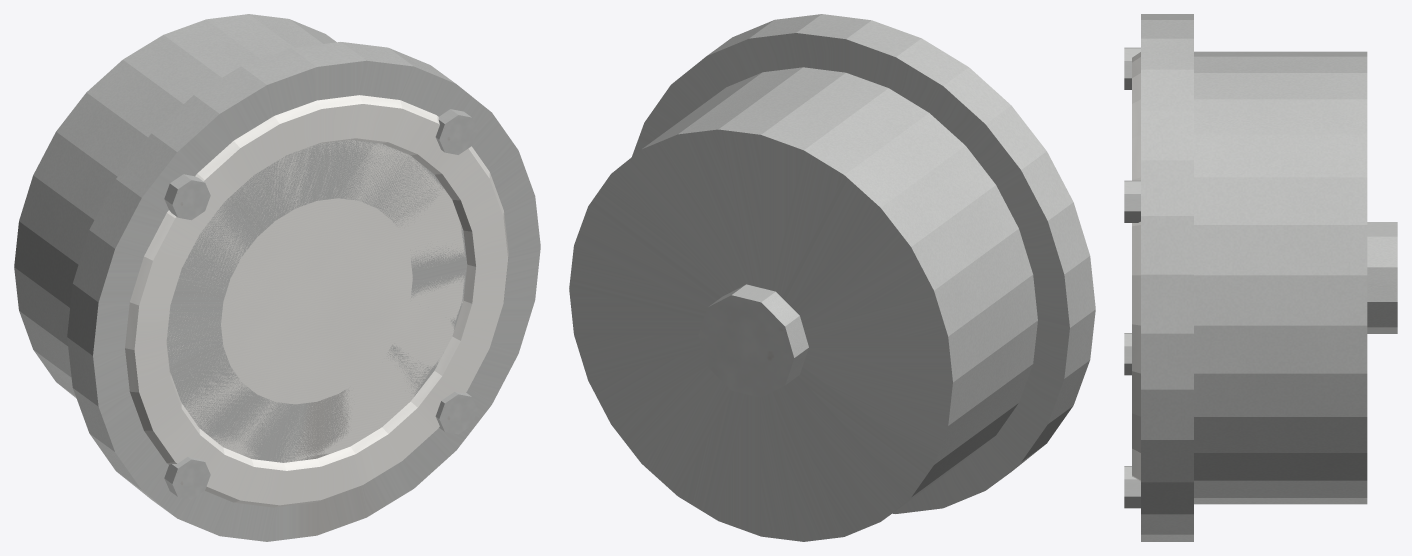
File: bussocket_circle.gltf
3 renders of one model, left to right at view 1: azimuth 30°, elevation 25°; view 2: azimuth 150°, elevation 25°; view 3: azimuth 270°, elevation 25°, orthographic. The views are drawn at different scales.
Parts seen in each view (by area): view 1: jx_bussocket_circle; view 2: jx_bussocket_circle; view 3: jx_bussocket_circle.
Part boxes in pixels (x1,y1,x2,y2): jx_bussocket_circle: [14, 14, 540, 541]; jx_bussocket_circle: [569, 14, 1095, 541]; jx_bussocket_circle: [1124, 14, 1397, 541].
Size of the model in its own units: 0.7 by 0.7 by 0.362.
Materials: 3 (3 with a texture image).
